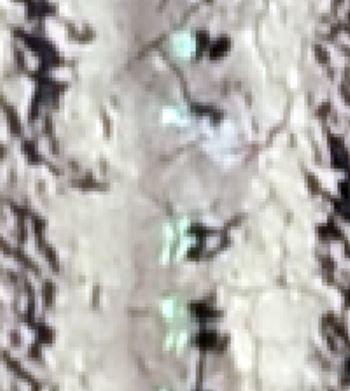cotton: (166, 222, 189, 257), (162, 298, 187, 323), (172, 31, 195, 57), (168, 331, 192, 355), (166, 106, 190, 123)
